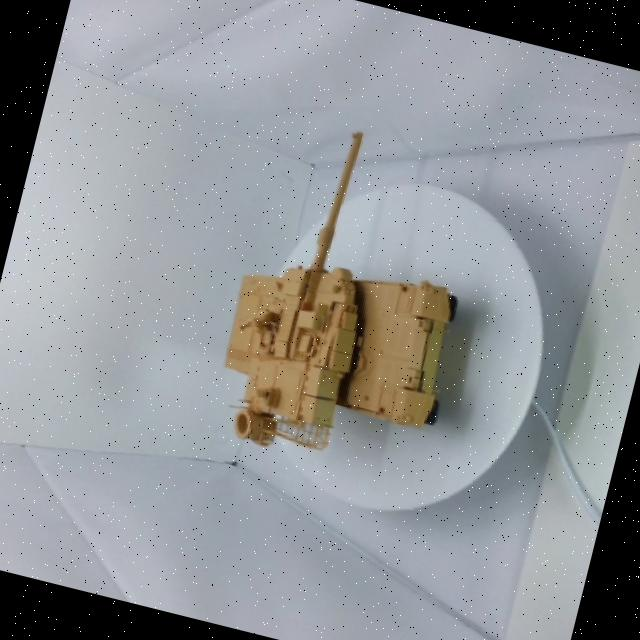korea tank: (155, 87, 534, 524)
